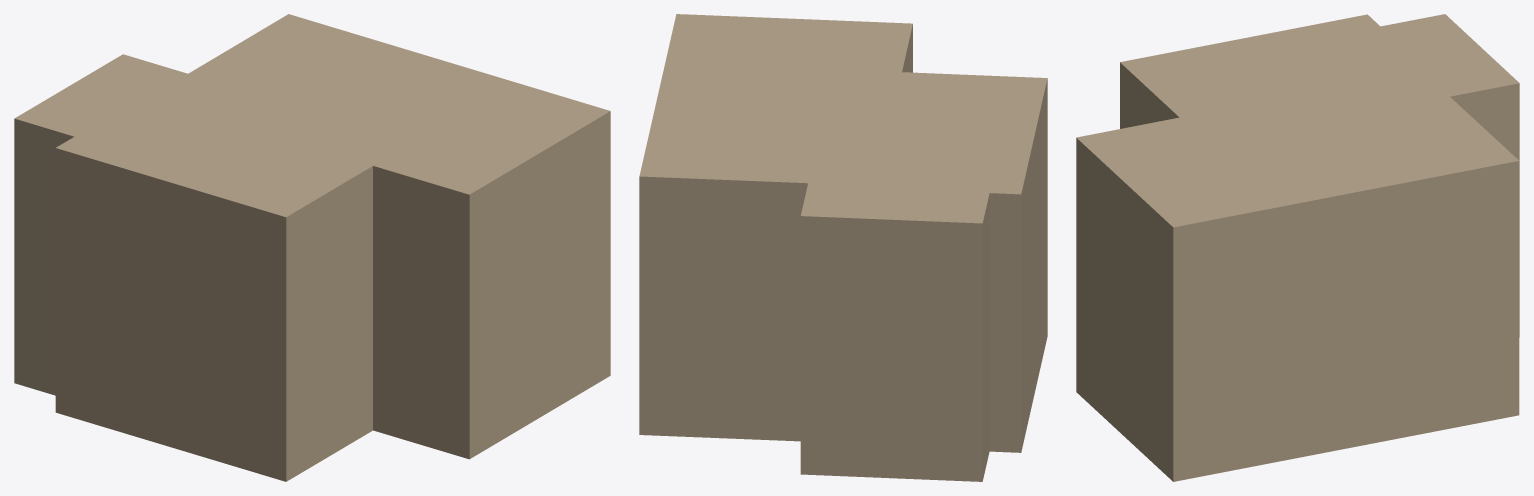
The model's file is bld_106456209.dae.
3 renders of one model, left to right at view 1: azimuth 30°, elevation 25°; view 2: azimuth 150°, elevation 25°; view 3: azimuth 270°, elevation 25°, orthographic. The views are drawn at different scales.
Parts seen in each view (by area): view 1: bld_106456209; view 2: bld_106456209; view 3: bld_106456209.
Part boxes in pixels (x1,y1,x2,y2): bld_106456209: (14, 14, 610, 481); bld_106456209: (639, 14, 1047, 481); bld_106456209: (1076, 14, 1519, 481).
Size of the model in its own units: 14.39 by 12.64 by 8.
